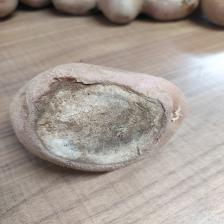Damaged potato: (7, 61, 191, 175)
